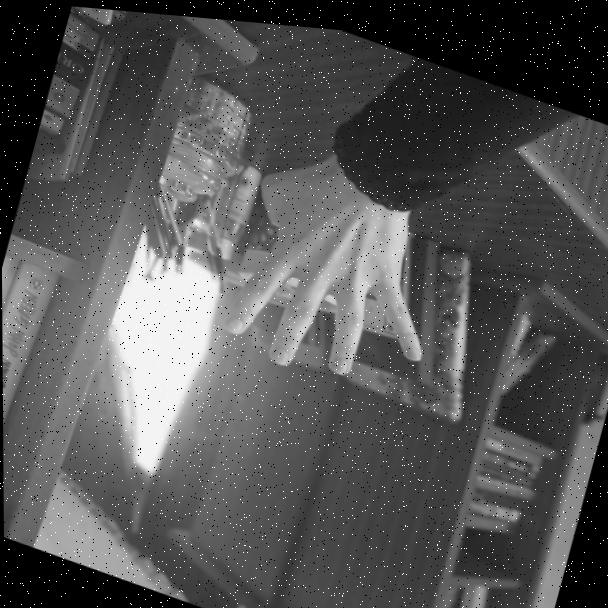four: (175, 101, 505, 429)
